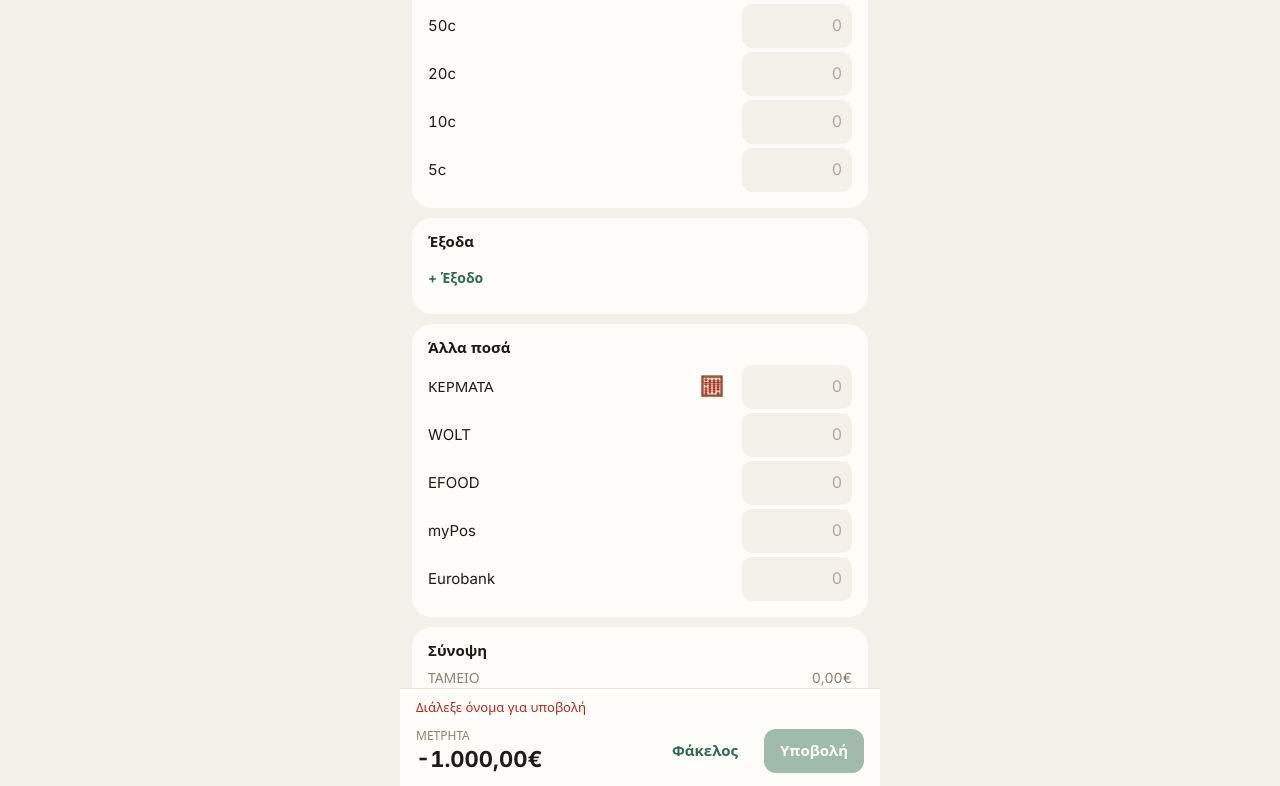
Scenario: navigation › opens Αποβάρα from the menu and fills ΚΕΡΜΑΤΑ from the calculator
(page scrolled)
Click the button named "Άθροισμα για ΚΕΡΜΑΤΑ".
click(712, 387)  # box top-left (690, 365), bottom-right (734, 409)
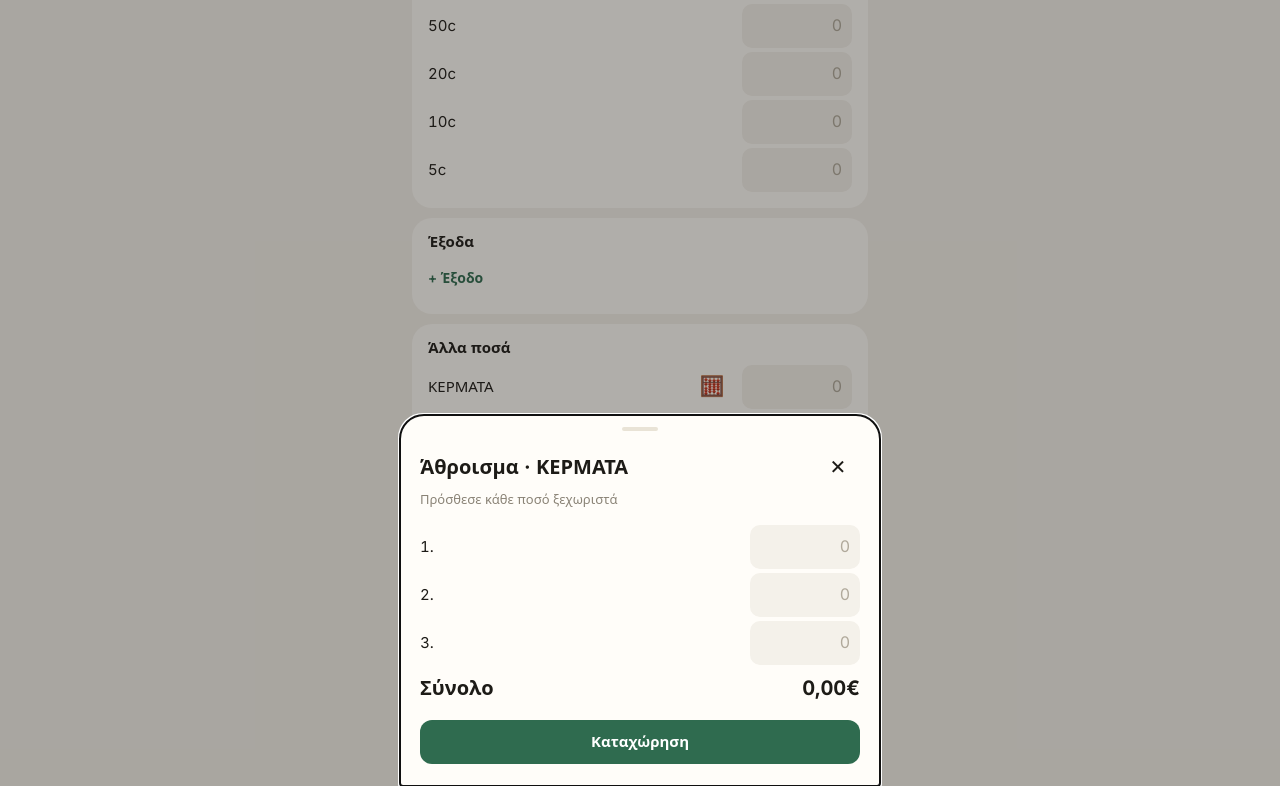
Type "100" into the field named "Ποσό 1".
click(805, 547); type("100")  # box top-left (750, 525), bottom-right (860, 569)
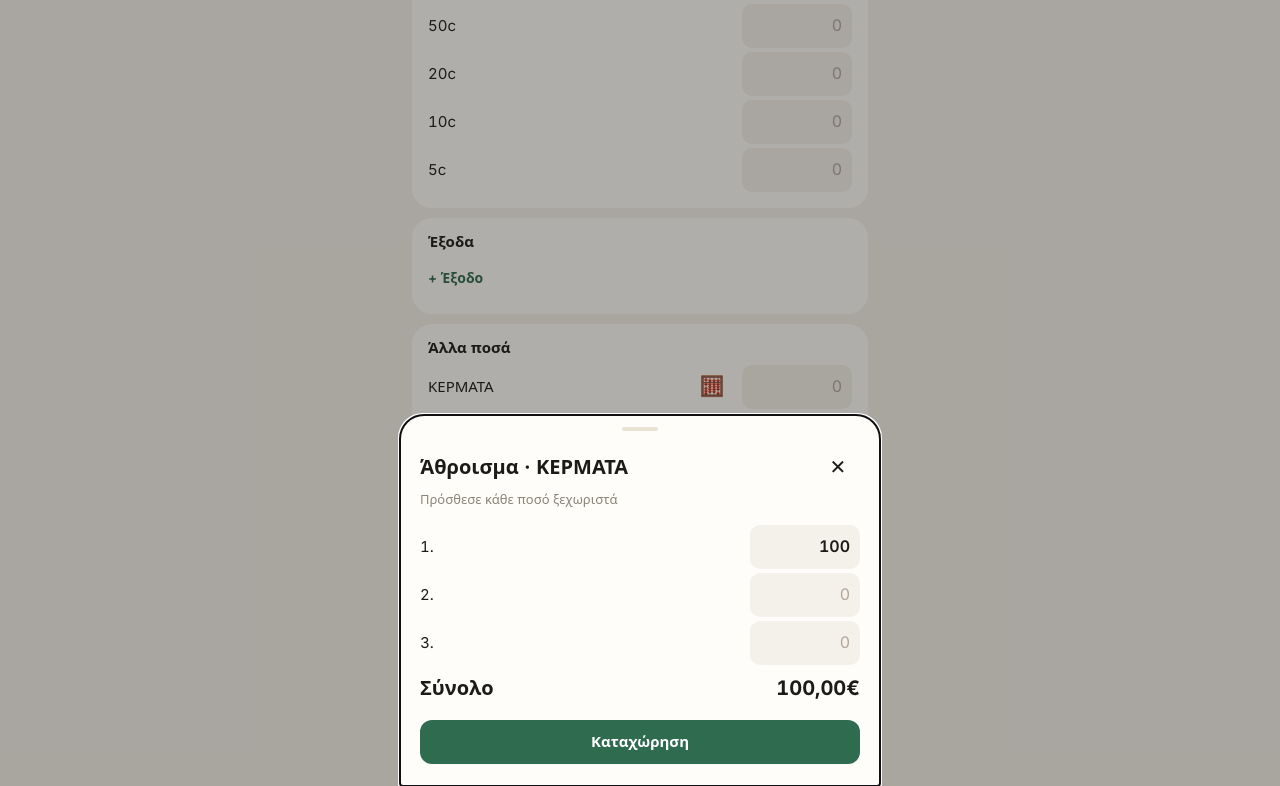
Type "50" into the field named "Ποσό 2".
click(805, 595); type("50")  # box top-left (750, 573), bottom-right (860, 617)
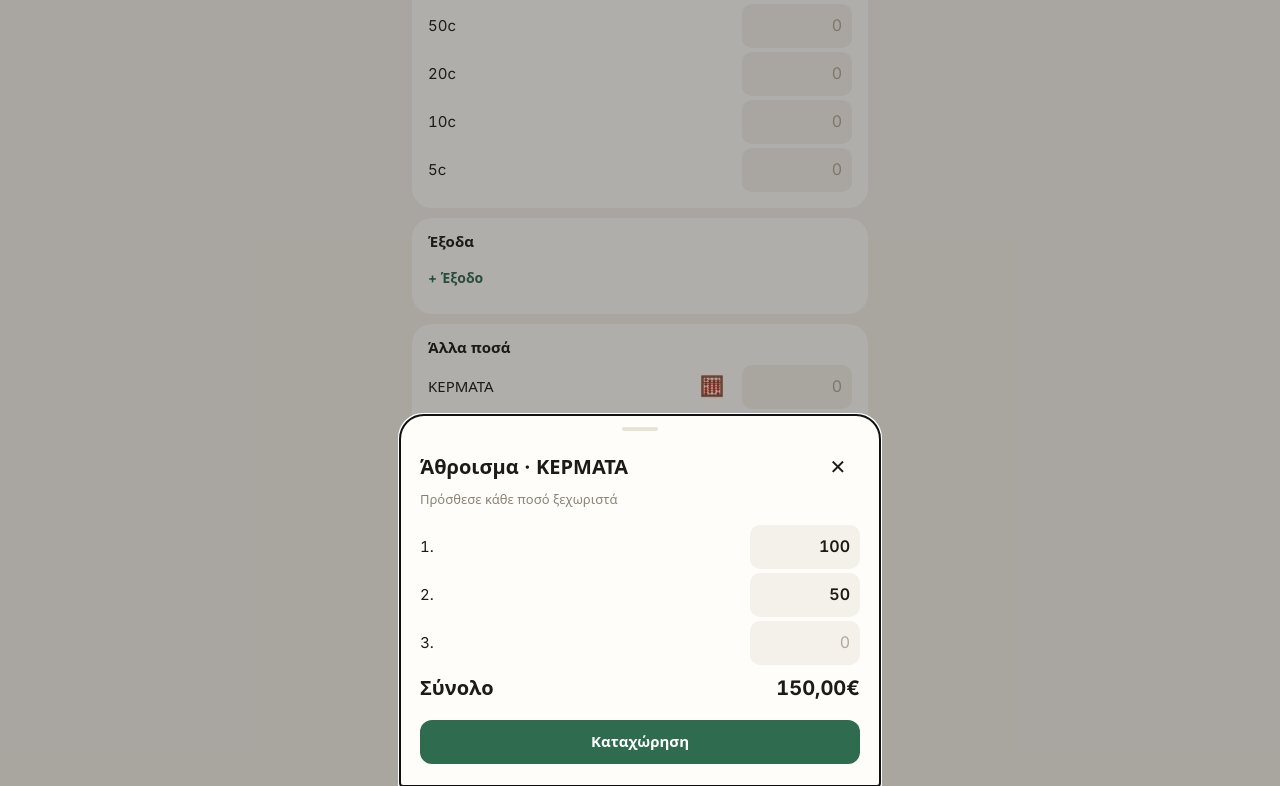
Click the button "Καταχώρηση".
click(640, 742)  # box top-left (420, 720), bottom-right (860, 764)
(page scrolled)
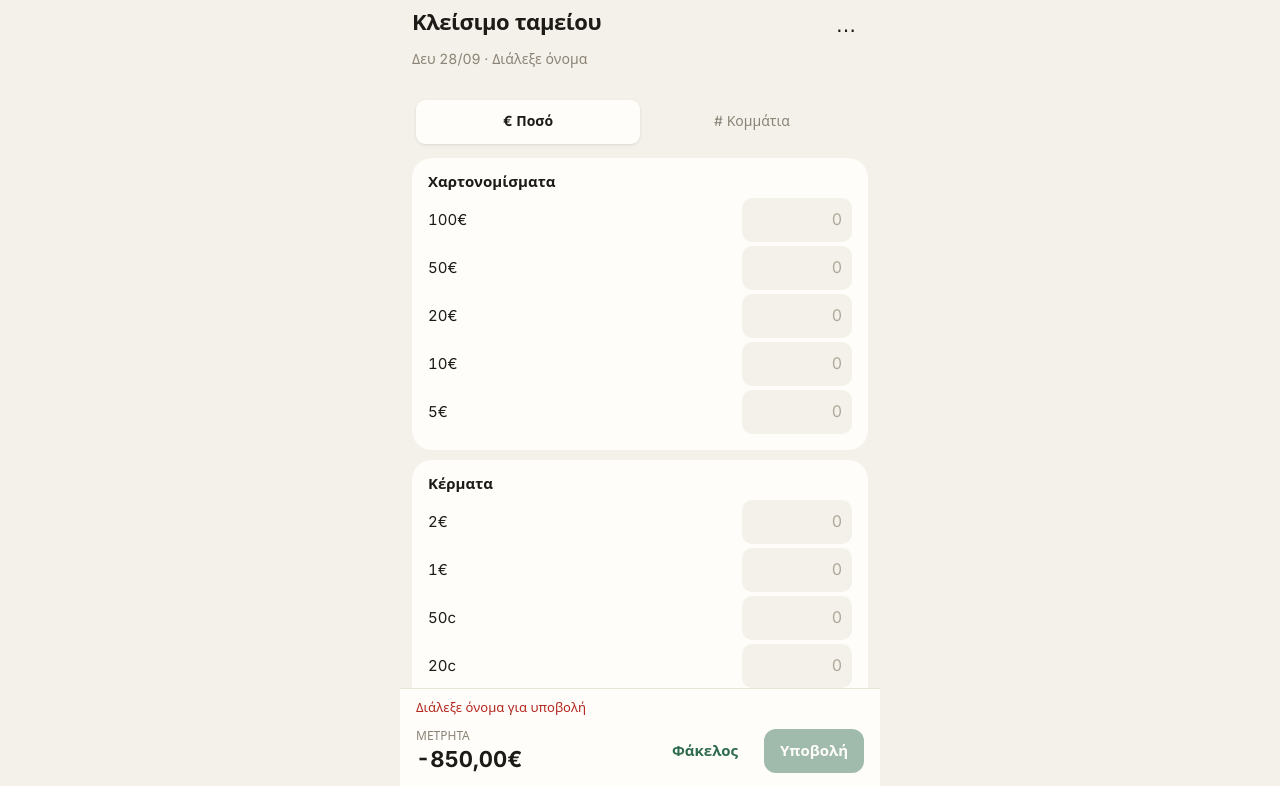
Click the button named "Μενού".
click(846, 30)  # box top-left (824, 8), bottom-right (868, 52)
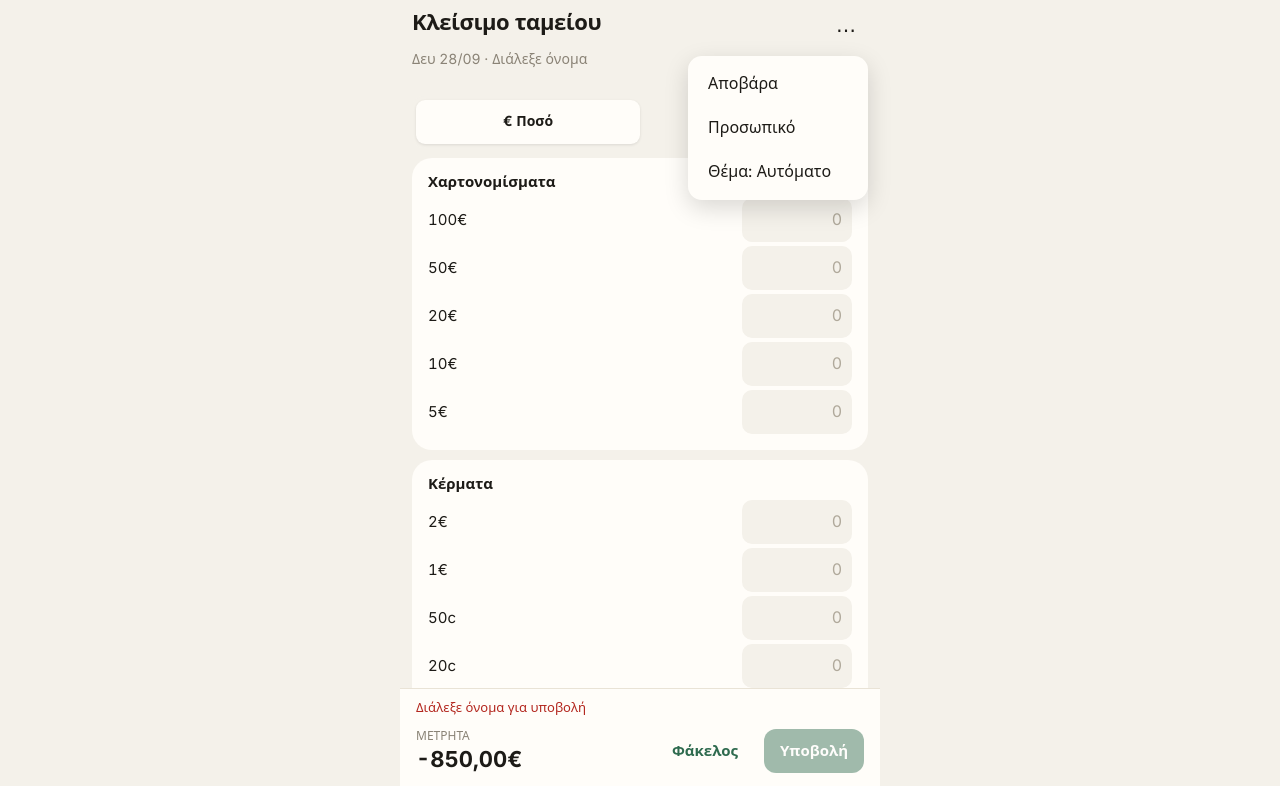
Click the menu item "Αποβάρα".
click(778, 84)  # box top-left (694, 62), bottom-right (862, 106)
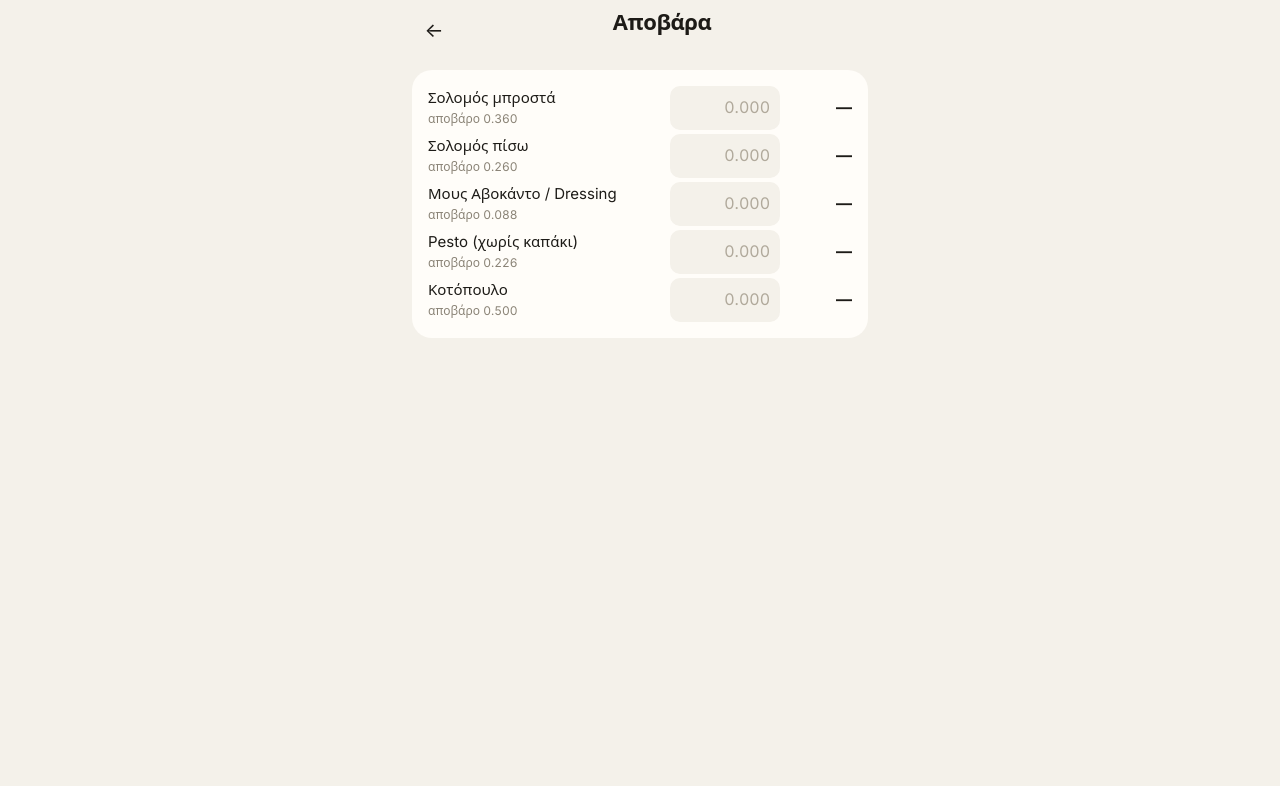
Expected: the heading "Αποβάρα" is shown, top-left (613, 8), bottom-right (711, 38)
